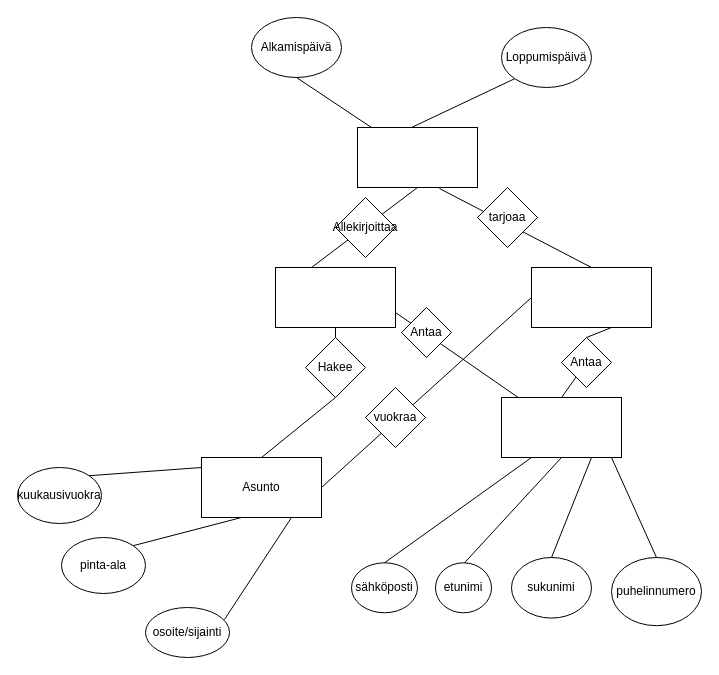
The diagram is 719 pixels wide and 675 high, and some of its shapes have lost their labels. Each missing label, with the centre of its shape:
"opiskelija" belongs at point 335,297.
"Vuokranantaja" belongs at point 591,297.
"vuokrasopimus" belongs at point 417,157.
"Yhteystiedot" belongs at point 561,427.
